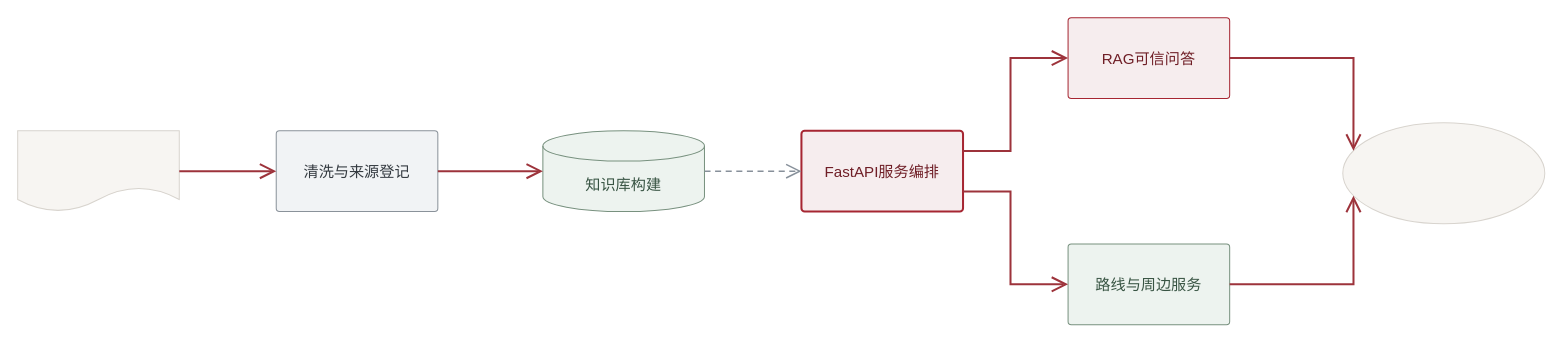
Image size: 1562x342. Some labels were removed from this diagram. The centre of each missing label's shape, as x and y in pixels:
公开史料: (x=98, y=171)
教师 · 游客 · 基层文旅: (x=1443, y=173)
